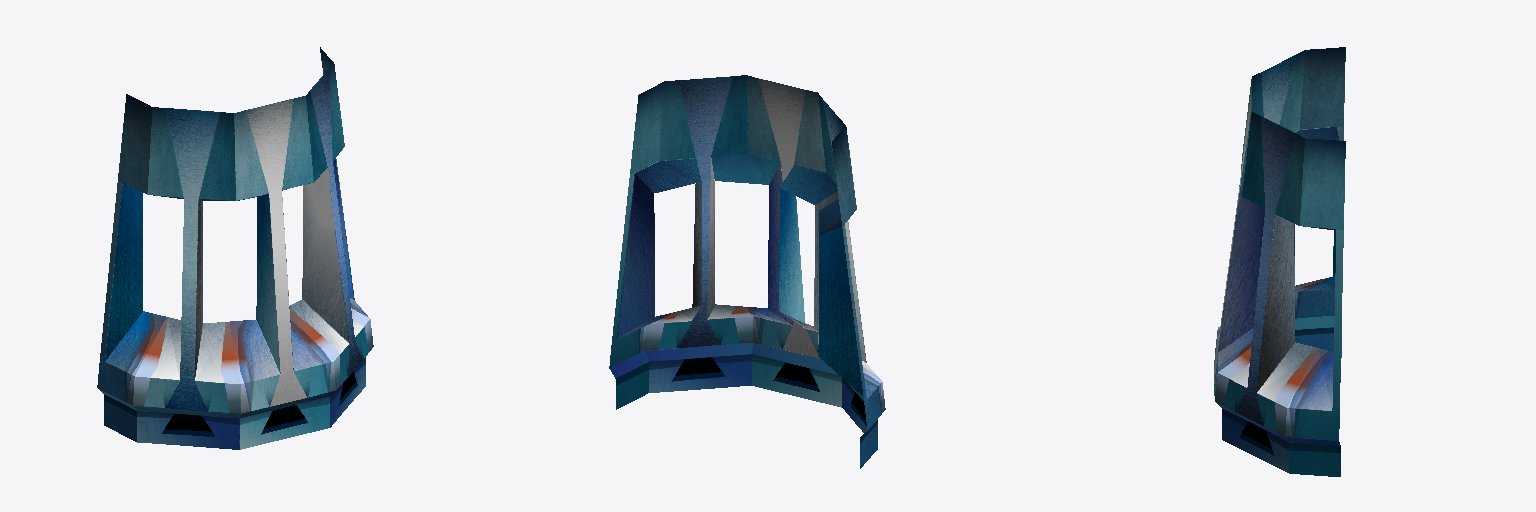
The picture shows the model from 3 angles: view 1: azimuth 30°, elevation 25°; view 2: azimuth 150°, elevation 25°; view 3: azimuth 270°, elevation 25°; orthographic projection.
Visible parts, largest first — view 1: head; view 2: head; view 3: head.
Part boxes in pixels (bbox=[...]): head: bbox=[97, 47, 373, 449]; head: bbox=[609, 75, 885, 468]; head: bbox=[1214, 47, 1345, 476].
Bounding box in the file's own units: 280 × 335 × 124.
1 materials, 1 textured.